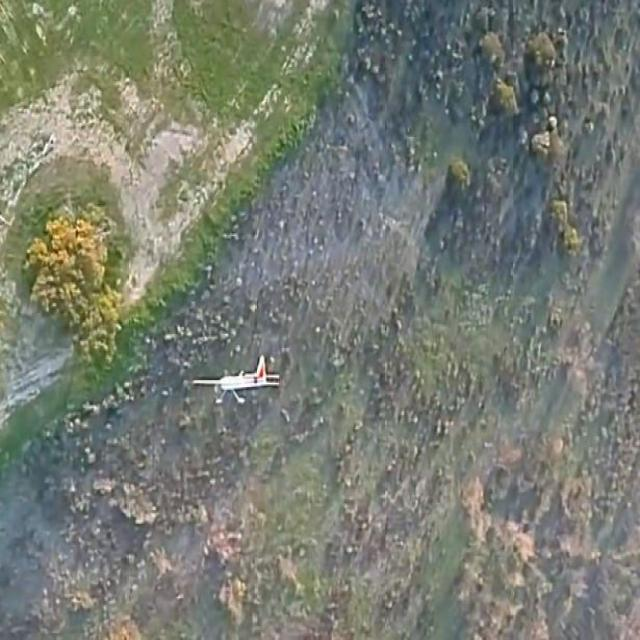iha: (224, 355, 249, 406)
